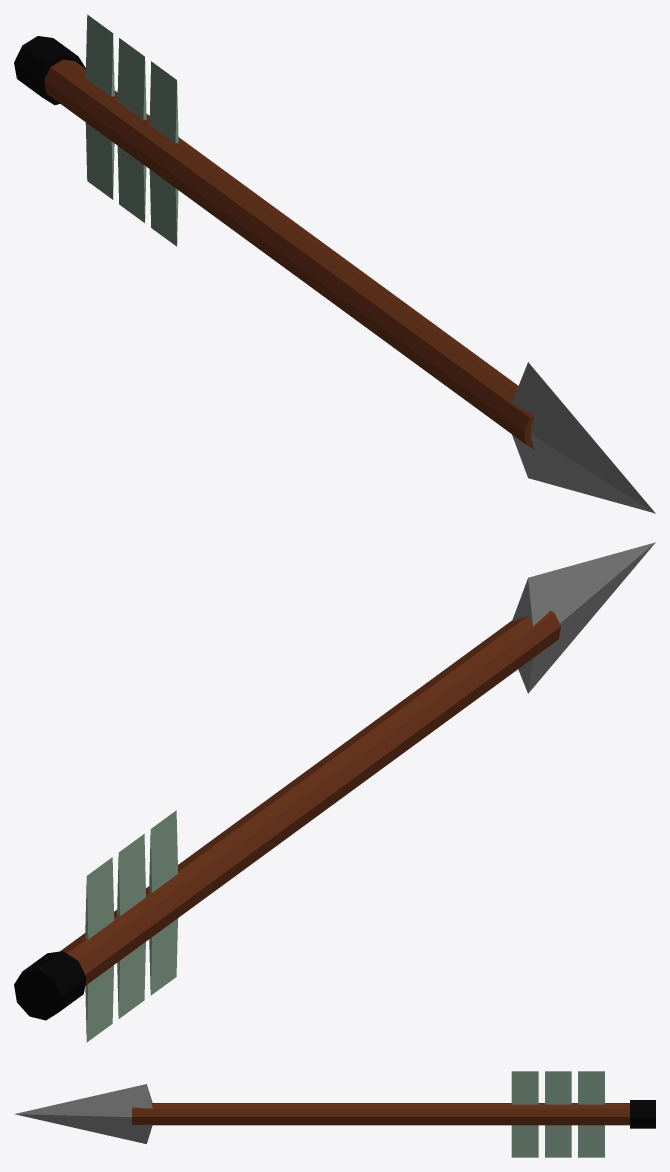
File: arrow.glb
3 renders of one model, top to bottom at view 1: azimuth 30°, elevation 25°; view 2: azimuth 150°, elevation 25°; view 3: azimuth 270°, elevation 25°, orthographic. The views are drawn at different scales.
Visible parts, largest first — view 1: Cylinder, Cube, Cone, Cylinder.001; view 2: Cylinder, Cube, Cone, Cylinder.001; view 3: Cylinder, Cube, Cone, Cylinder.001.
Boxes of the visible parts, x1,y1,x2,y2 form: Cylinder: (44,59,533,449); Cube: (85,14,178,246); Cone: (512,362,655,513); Cylinder.001: (14,36,85,105); Cylinder: (60,610,560,985); Cube: (85,810,178,1042); Cone: (512,542,655,693); Cylinder.001: (14,951,86,1020); Cylinder: (132,1103,629,1125); Cube: (511,1071,604,1157); Cone: (14,1084,152,1143); Cylinder.001: (630,1100,655,1128).
Size of the model in its own units: 0.5296 by 1.77 by 11.91.
